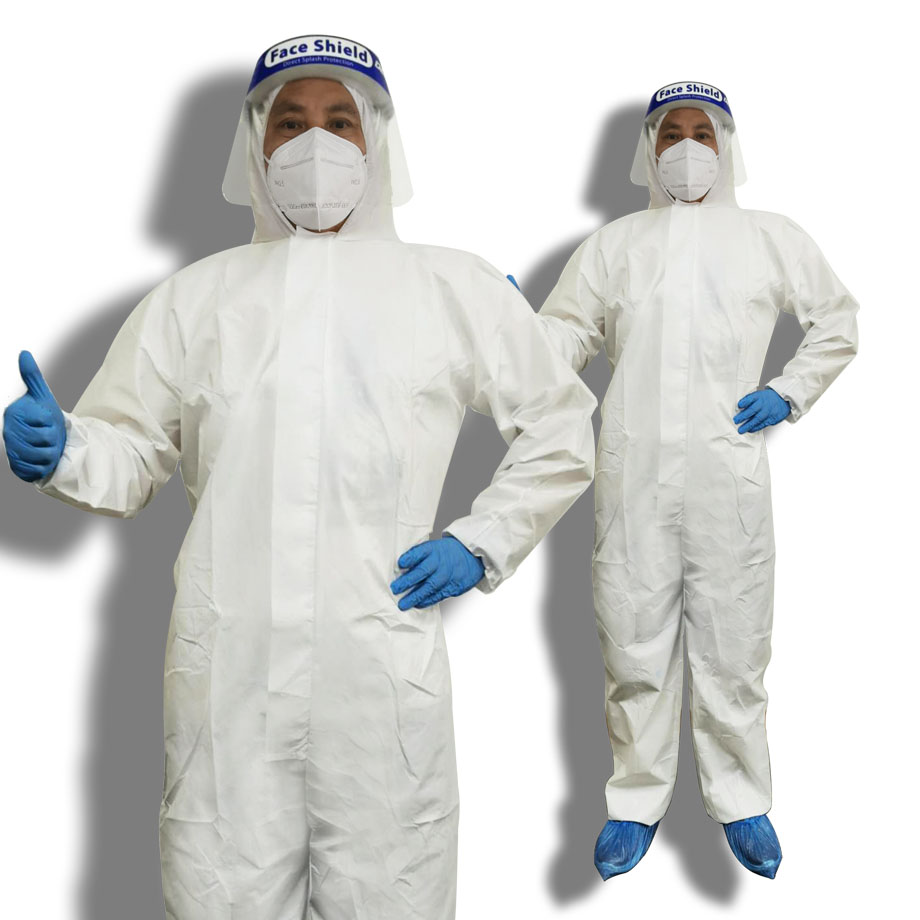Coverall: (6, 34, 596, 920), (554, 79, 841, 833)
Gloves: (1, 344, 79, 493), (385, 526, 494, 612), (732, 380, 803, 440)
with_mask: (258, 101, 377, 234), (651, 119, 722, 208)
